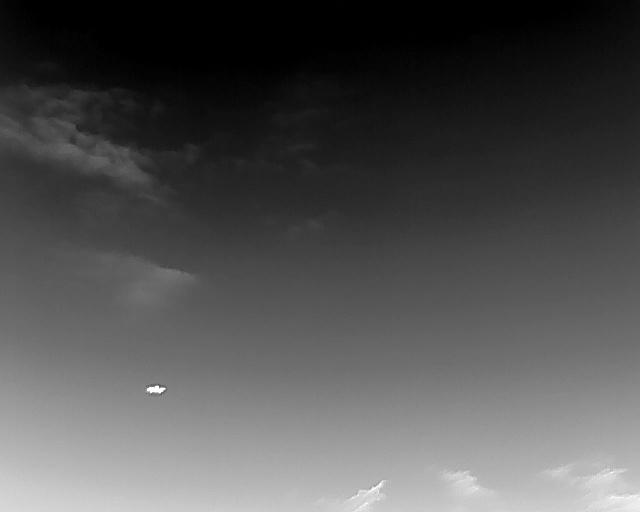fpv-drone: (145, 384, 166, 394)
